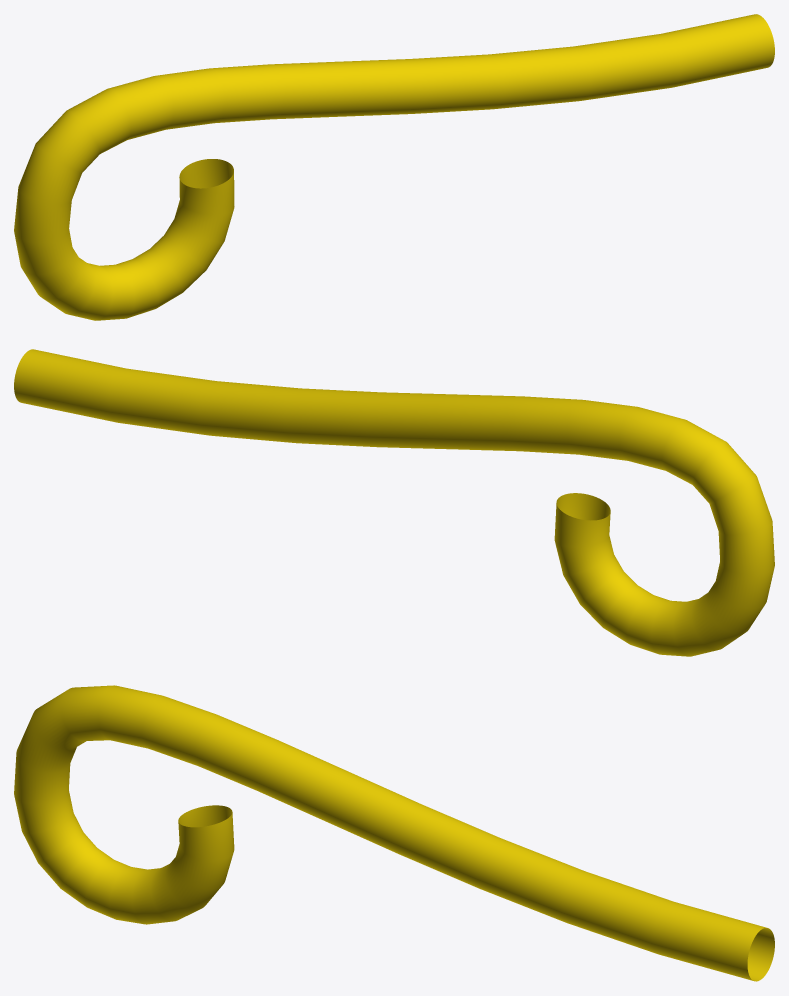
3 views of the same model, one above another, from view 1: azimuth 30°, elevation 25°; view 2: azimuth 150°, elevation 25°; view 3: azimuth 330°, elevation 25° (orthographic).
Parts seen in each view (by area): view 1: BezierCurve; view 2: BezierCurve; view 3: BezierCurve.
Part boxes in pixels (box(x1,y1,x2,y2)): BezierCurve: box(14, 14, 774, 320); BezierCurve: box(14, 349, 774, 656); BezierCurve: box(14, 685, 774, 981).
Bounding box in the file's own units: 9.83 × 2.94 × 0.7143.
